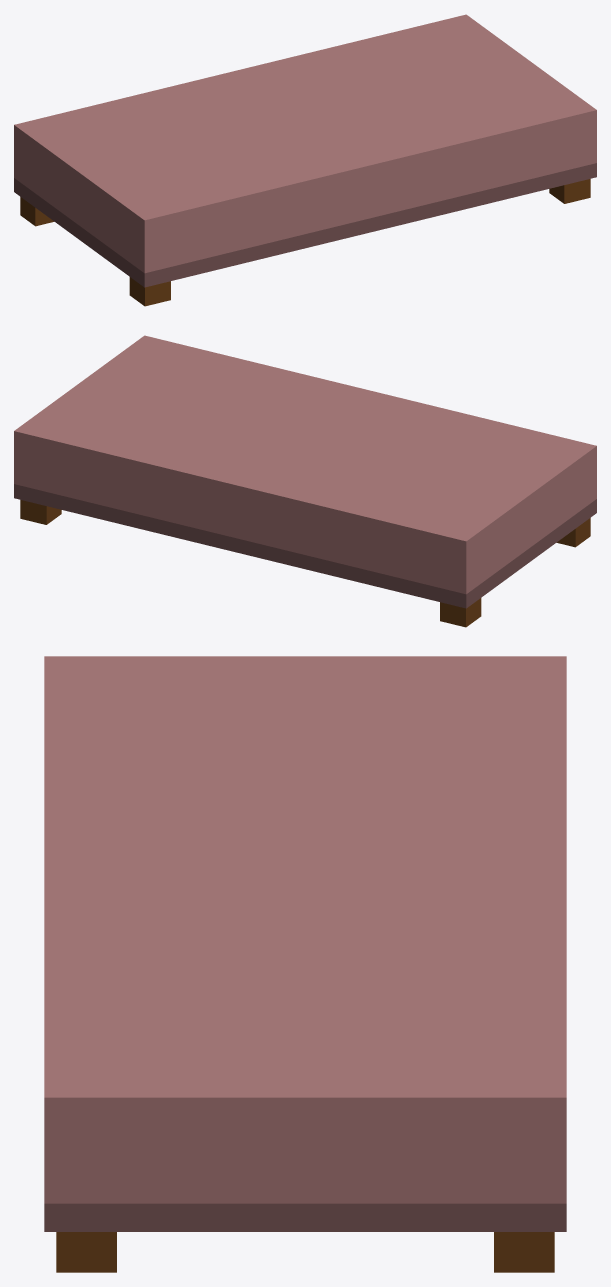
File: Table.fbx
The picture shows the model from 3 angles, top to bottom: view 1: azimuth 30°, elevation 25°; view 2: azimuth 150°, elevation 25°; view 3: azimuth 270°, elevation 25°; orthographic projection. The views are drawn at different scales.
Parts seen in each view (by area): view 1: polySurface35; view 2: polySurface35; view 3: polySurface35.
Boxes of the visible parts, x1,y1,x2,y2 form: polySurface35: [14, 14, 596, 306]; polySurface35: [14, 335, 596, 627]; polySurface35: [44, 656, 566, 1272].
Size of the model in its own units: 768 by 145 by 384.
